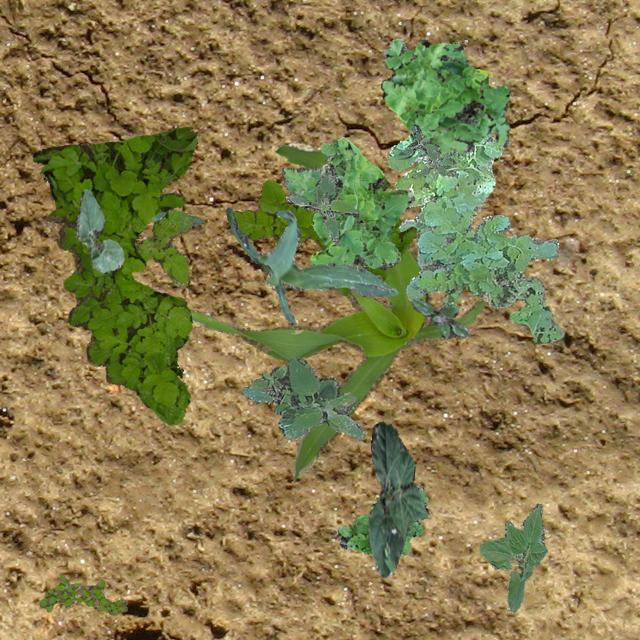crop: (188, 142, 484, 480), (225, 206, 398, 324), (367, 421, 428, 576), (478, 502, 546, 612), (76, 188, 122, 272), (150, 210, 202, 224)
weed: (32, 126, 196, 424), (386, 132, 562, 342), (232, 178, 416, 296), (282, 136, 414, 268), (380, 38, 510, 152), (240, 354, 364, 440), (336, 484, 426, 554), (284, 172, 358, 240), (134, 210, 192, 288), (37, 572, 126, 614), (394, 122, 454, 176), (411, 298, 468, 336)
